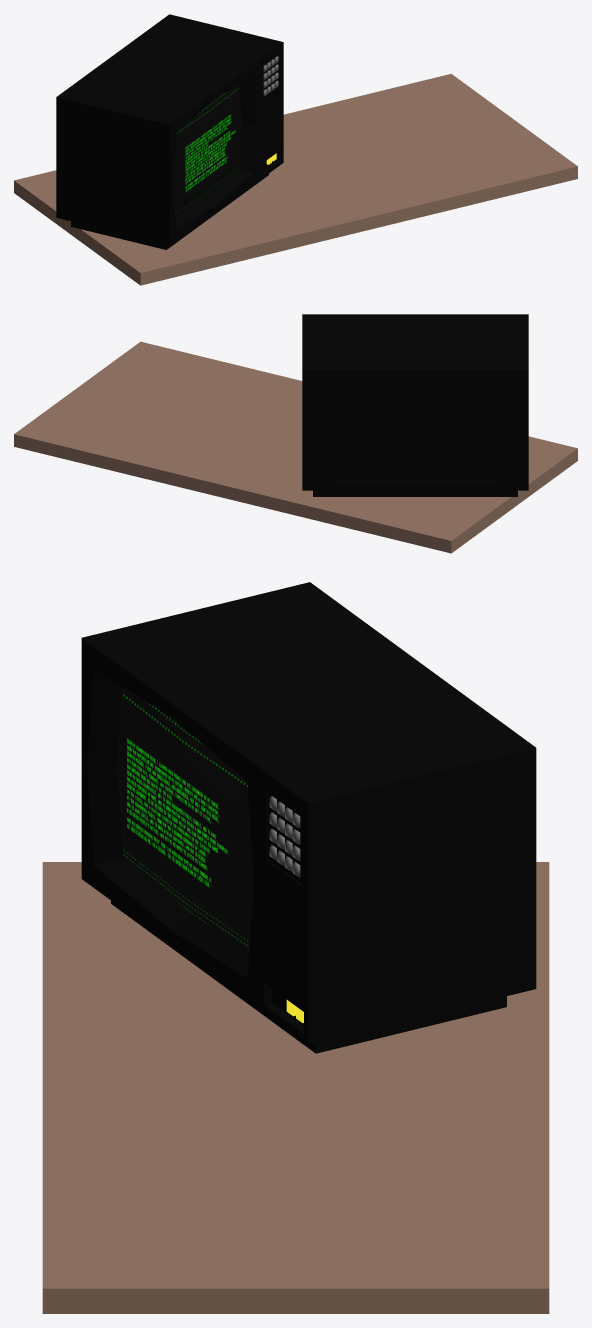
Rendered from second_pc.glb.
3 renders of one model, top to bottom at view 1: azimuth 30°, elevation 25°; view 2: azimuth 150°, elevation 25°; view 3: azimuth 270°, elevation 25°, orthographic. The views are drawn at different scales.
Visible parts, largest first — view 1: Table, TV, Plane.010, Plane.009, Plane.011; view 2: Table, TV; view 3: Table, TV, Plane.010, Plane.009, Plane.011.
Boxes of the visible parts, bbox=[...] form: Table: bbox=[14, 73, 577, 285]; TV: bbox=[56, 14, 283, 249]; Plane.010: bbox=[170, 60, 259, 245]; Plane.009: bbox=[259, 42, 283, 179]; Plane.011: bbox=[263, 56, 278, 96]; Table: bbox=[14, 341, 577, 553]; TV: bbox=[302, 314, 528, 496]; Table: bbox=[42, 862, 549, 1313]; TV: bbox=[82, 582, 536, 1053]; Plane.010: bbox=[81, 638, 259, 1009]; Plane.009: bbox=[260, 768, 307, 1044]; Plane.011: bbox=[269, 795, 300, 877].
Bounding box in the file's own units: 4.61 × 1.39 × 2.22.
Materials: 7 (1 with a texture image).
